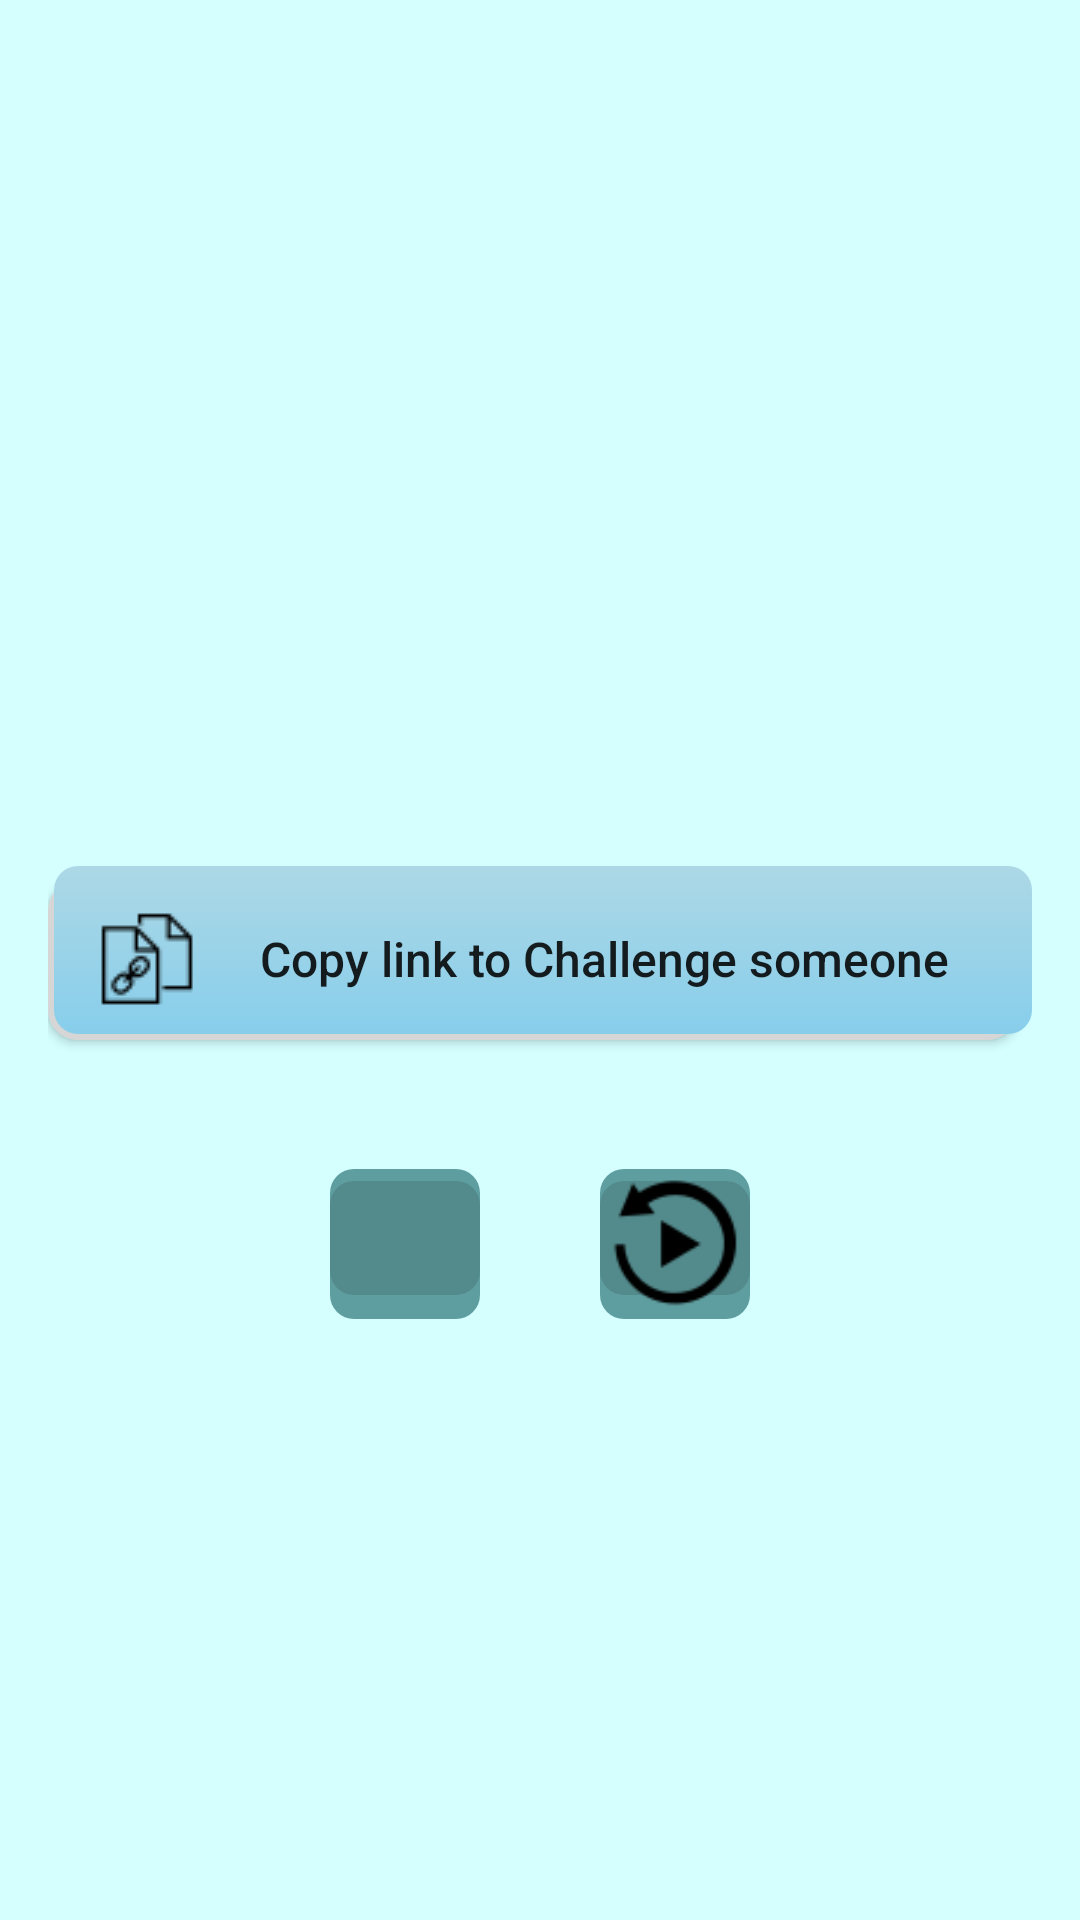

Named icons in this screenshot (1080px×1920px) and their bounding boxes, (x1, y1, x2, y2):
playagain: (600, 1169, 750, 1319)
